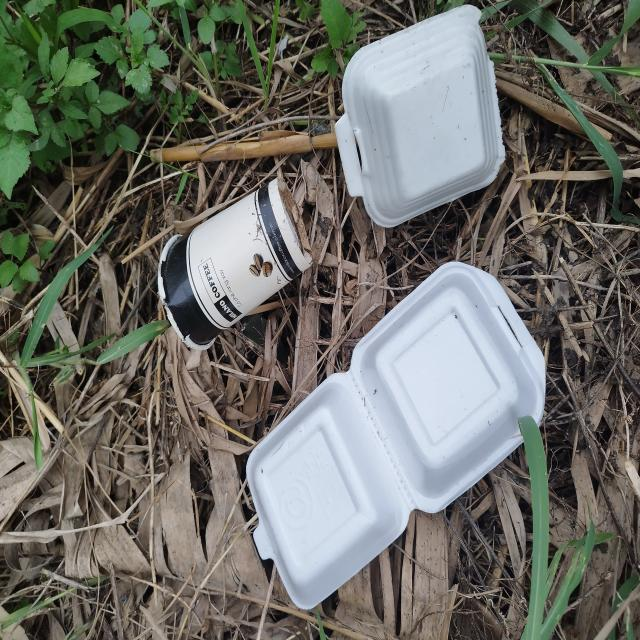foam box: (246, 259, 548, 609), (336, 3, 506, 230)
plastic glass: (157, 176, 308, 353)
